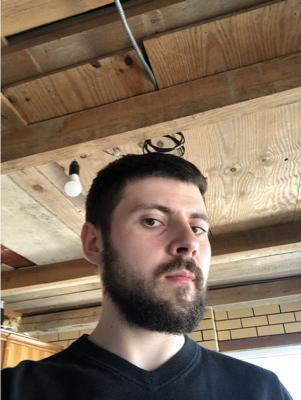without_mask: (117, 200, 211, 333)
